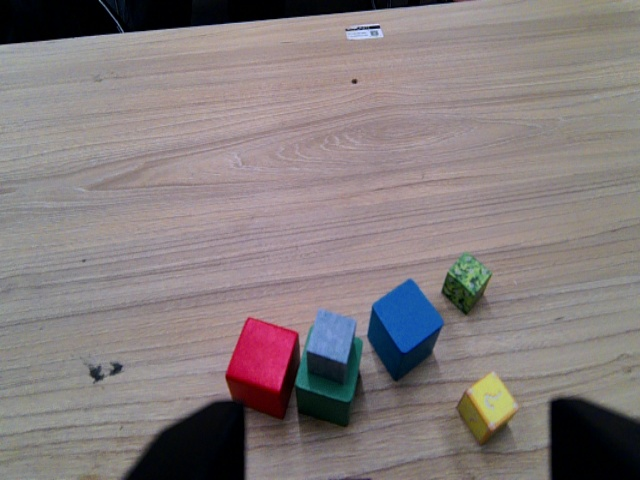grass: (449, 251, 492, 312)
lucky: (466, 369, 518, 441)
stone: (312, 305, 357, 379)
